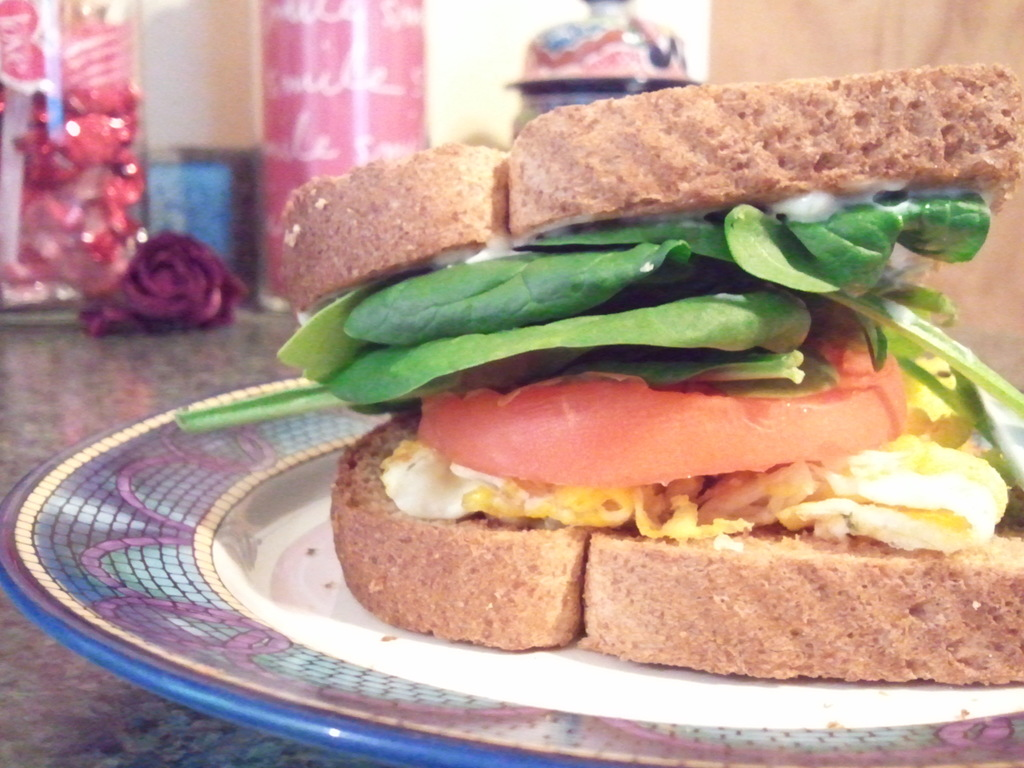sandwich: (279, 60, 1023, 691)
